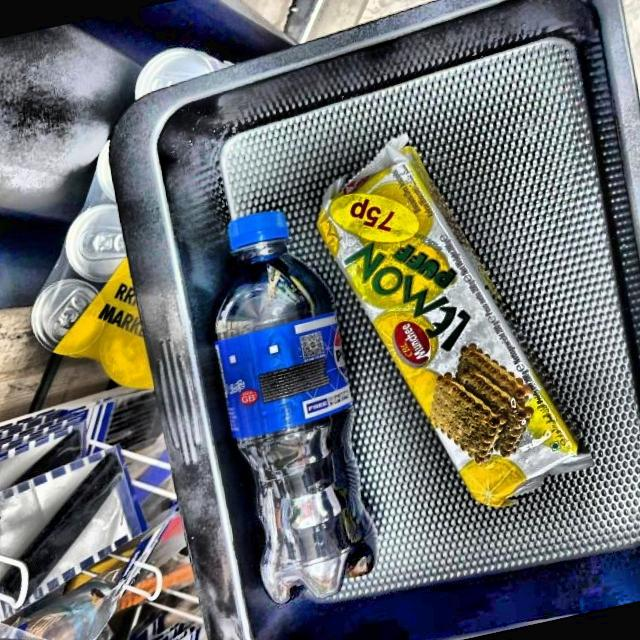lemon puff: (322, 133, 589, 506)
pepsi-bottle: (212, 211, 384, 598)
